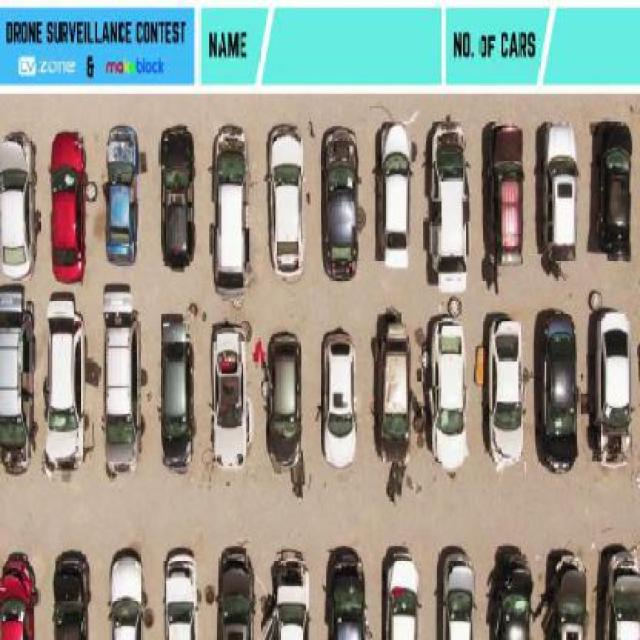car: (428, 118, 474, 289), (536, 305, 582, 472), (210, 126, 254, 290), (42, 289, 81, 474), (155, 308, 200, 468), (154, 124, 200, 274), (482, 308, 524, 470), (265, 123, 309, 277), (211, 321, 253, 478), (102, 285, 137, 471), (430, 309, 468, 475), (103, 124, 148, 264), (0, 132, 42, 282), (598, 304, 634, 474), (322, 121, 358, 288), (0, 285, 34, 457), (486, 119, 528, 257), (594, 112, 633, 260), (378, 115, 412, 272), (51, 126, 85, 283), (543, 125, 583, 257), (266, 323, 302, 469), (263, 545, 314, 640), (322, 328, 356, 469), (379, 315, 409, 464), (323, 543, 369, 640), (215, 540, 257, 640), (545, 551, 592, 640), (437, 543, 480, 640), (600, 543, 640, 640), (52, 548, 94, 638), (0, 548, 41, 640), (103, 550, 144, 640), (494, 556, 532, 640), (164, 543, 193, 640), (387, 550, 417, 640)
